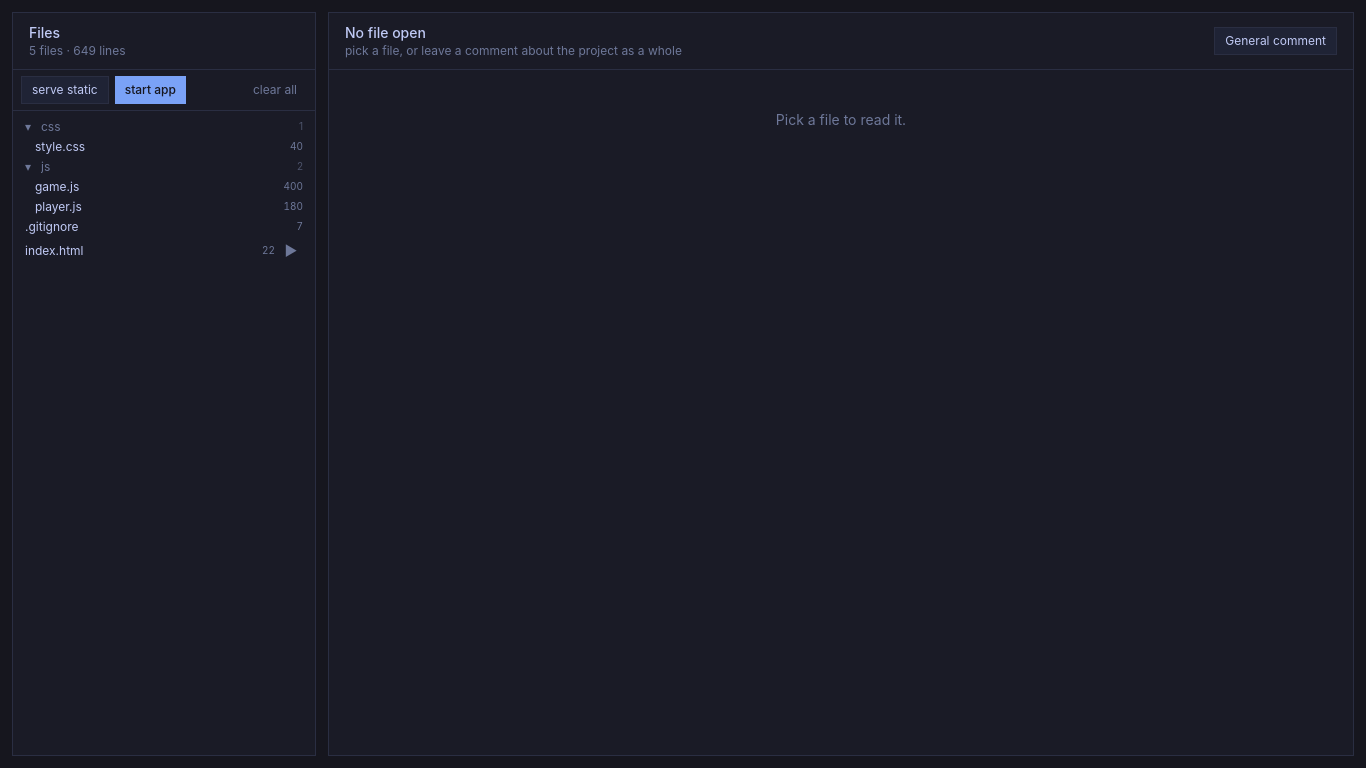
Test case: the files screen › keeps review out of the way until there is something to review
Expected: the text "index.html" is shown, [25,243,84,258]
Click the button "General comment" at [1276, 41], box [1214,27,1337,55]
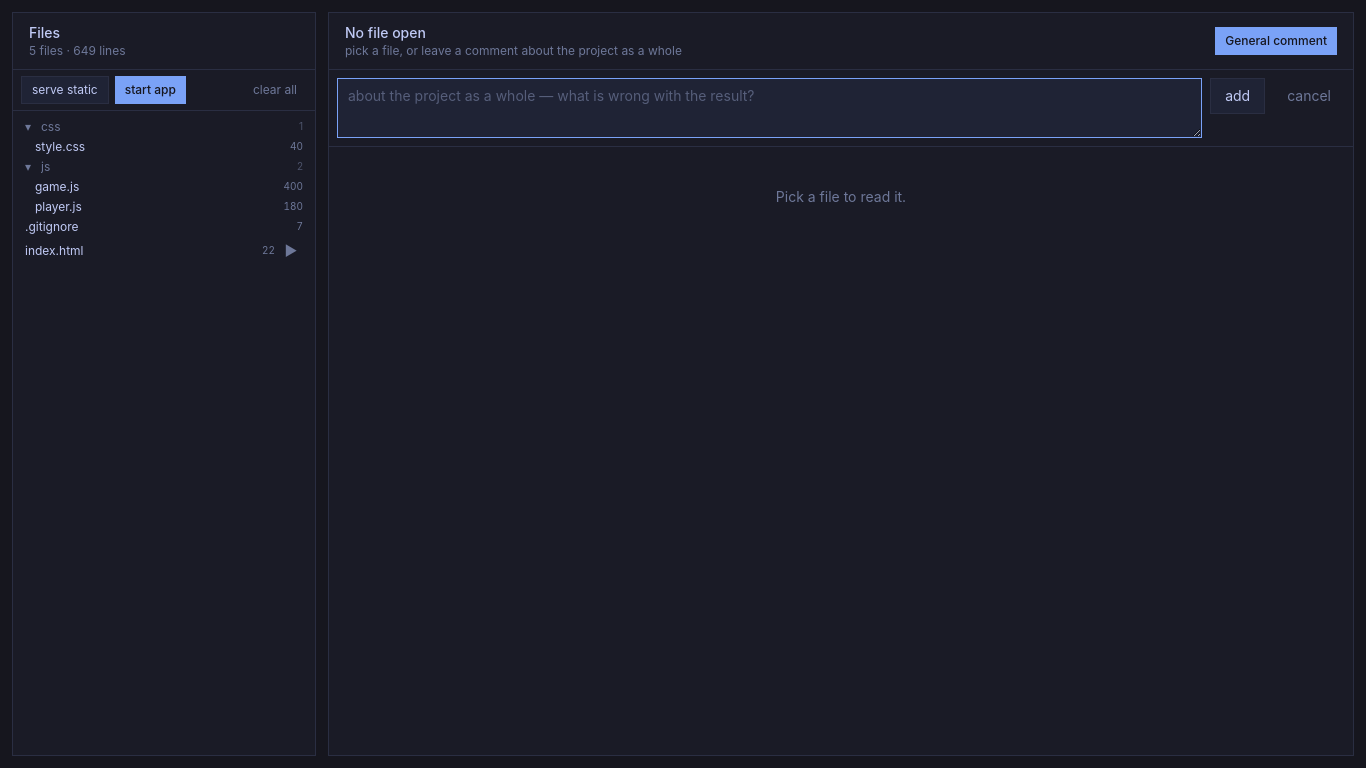
Now the text box with placeholder "about the project as a whole" is shown, box [337,78,1202,138]
